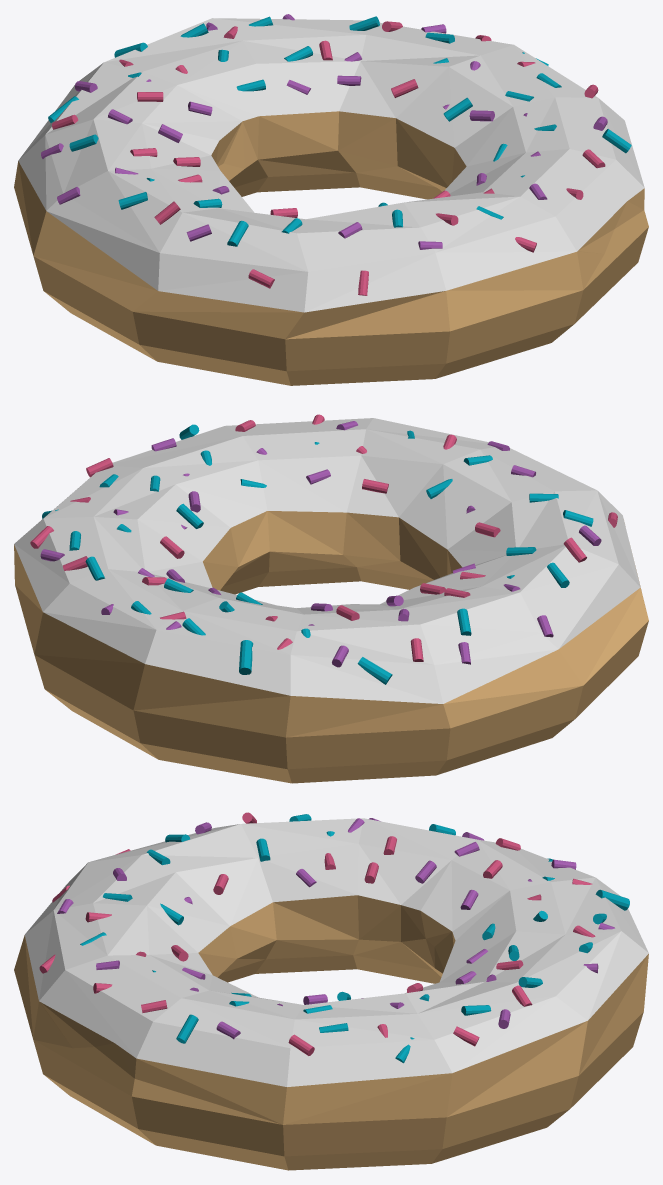
File: two.gltf
3 views of the same model, one above another, from view 1: azimuth 30°, elevation 25°; view 2: azimuth 150°, elevation 25°; view 3: azimuth 270°, elevation 25° (orthographic).
Parts seen in each view (by area): view 1: node_MeshObject-2047913984-PolyPaper21, node_MeshObject1102895104-PolyPaper7; view 2: node_MeshObject-2047913984-PolyPaper21, node_MeshObject1102895104-PolyPaper7; view 3: node_MeshObject-2047913984-PolyPaper21, node_MeshObject1102895104-PolyPaper7.
Part boxes in pixels (x1,y1,x2,y2): node_MeshObject-2047913984-PolyPaper21: (14,14,648,385); node_MeshObject1102895104-PolyPaper7: (349,16,631,185); node_MeshObject-2047913984-PolyPaper21: (14,414,648,783); node_MeshObject1102895104-PolyPaper7: (30,420,330,580); node_MeshObject-2047913984-PolyPaper21: (14,812,648,1170); node_MeshObject1102895104-PolyPaper7: (141,967,542,1063).
Size of the model in its own units: 0.5659 by 0.1549 by 0.5705.
